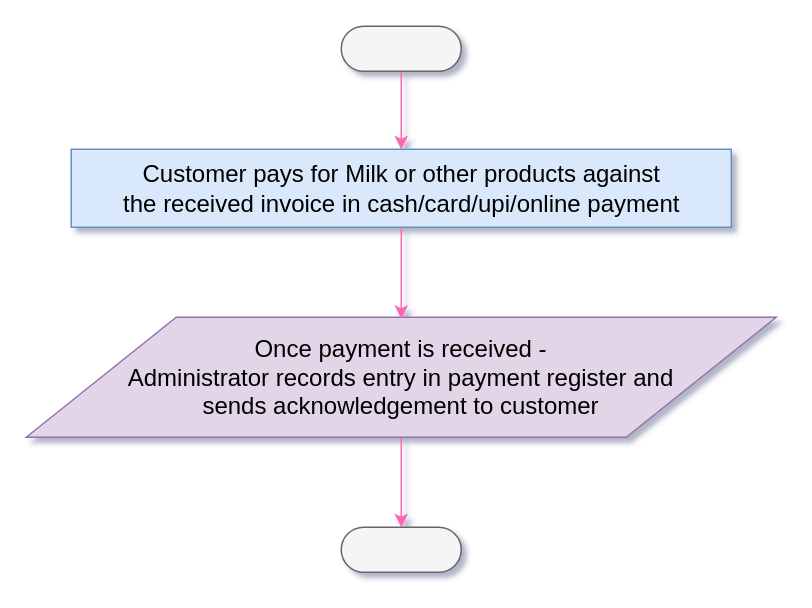
Image size: 812x608. Some labels were removed from this diagram. Here are the shapes that lost their labels. From the top down, the centre of each, then its label:
(400,48): Start
(400,549): Finish
